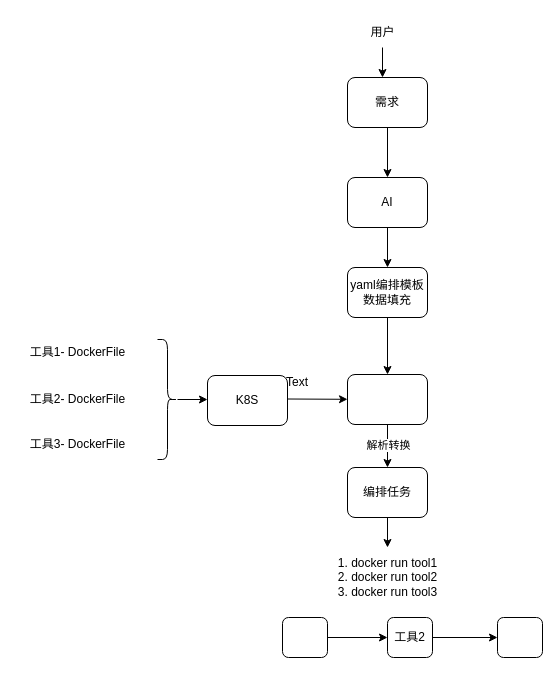
The diagram is 560 pixels wide and 675 high, and some of its shapes have lost their labels. Here are the shapes that lost their labels. From the top down, the centre of each, then its label:
(x=387, y=399): Fogate
(x=305, y=637): 工具1
(x=519, y=637): 工具3
